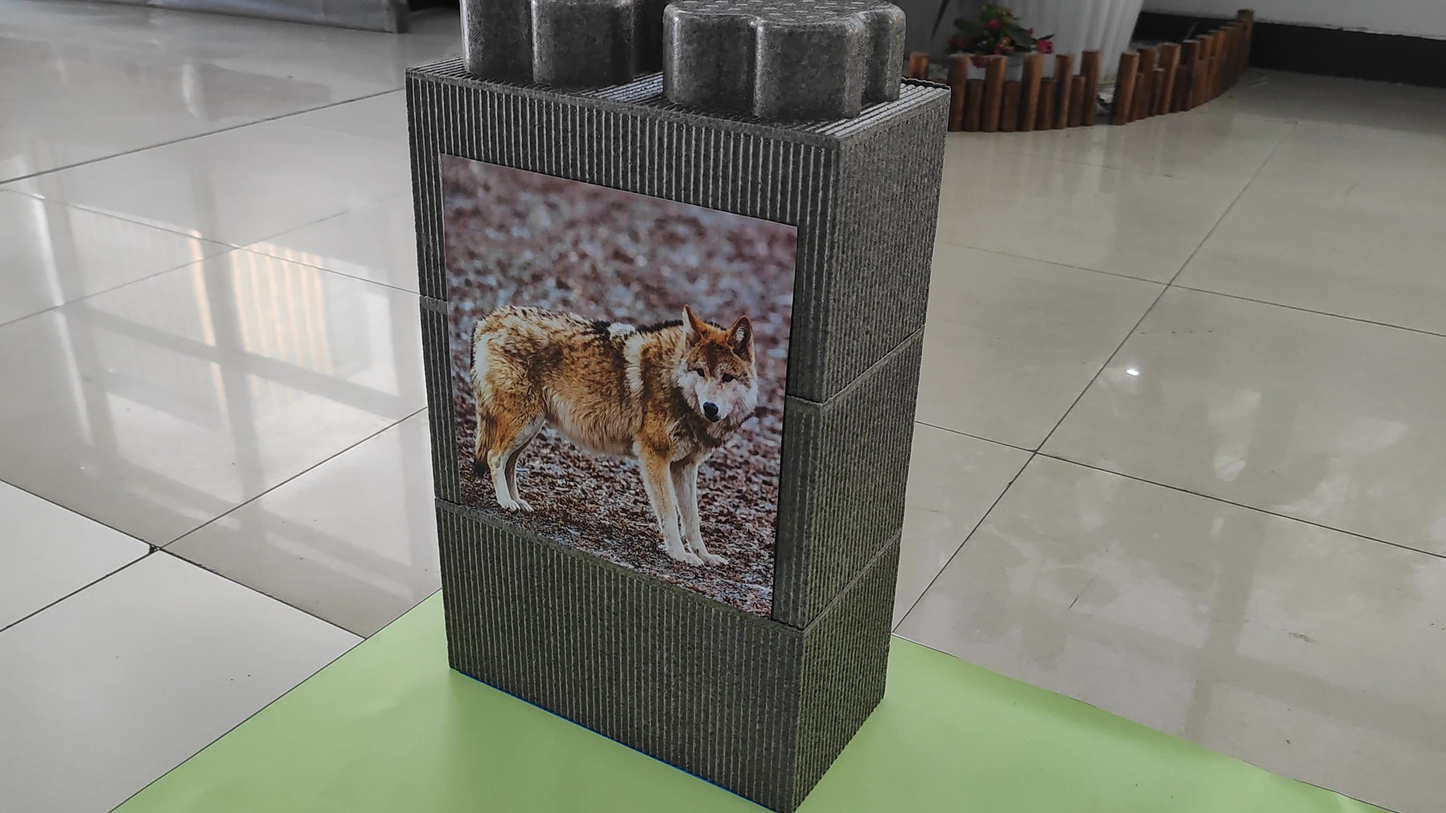wolf: (464, 250, 789, 600)
